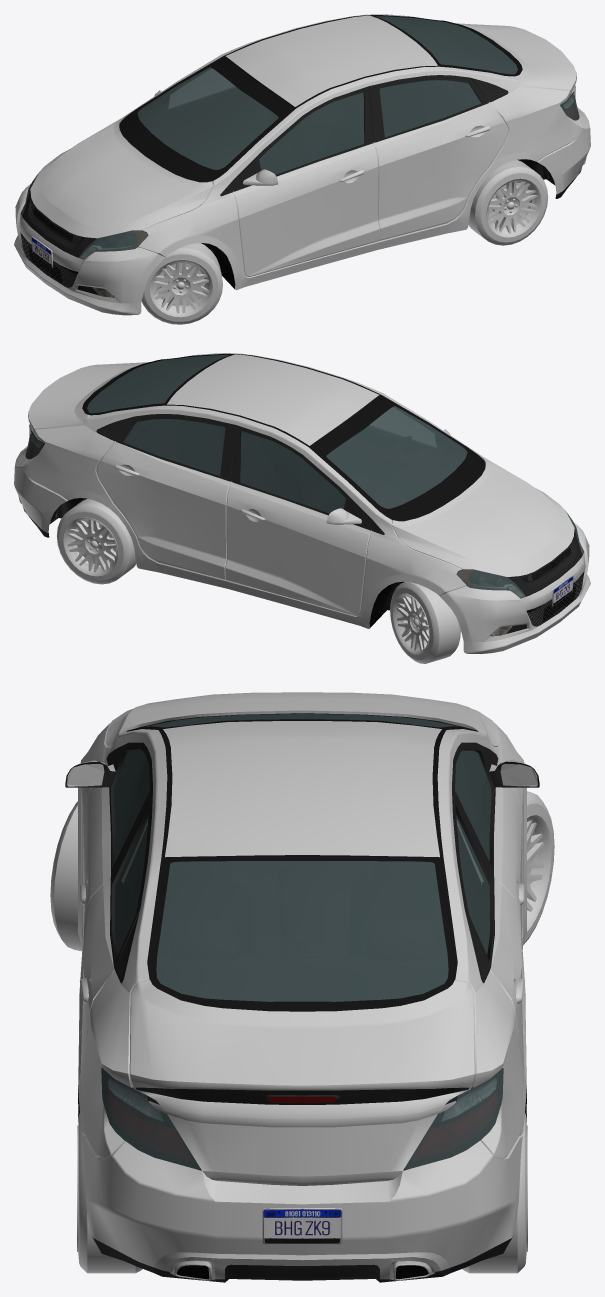
The model's file is kiri10.fbx.
3 renders of one model, top to bottom at view 1: azimuth 30°, elevation 25°; view 2: azimuth 150°, elevation 25°; view 3: azimuth 270°, elevation 25°, orthographic. The views are drawn at different scales.
Visible parts, largest first — view 1: Kiri10_body, Kiri10_interior, Kiri10_Bottom, Kiri10_glass_Body, Kiri10_Windshield, Kiri10_Wheel_RL, Kiri10_Wheel_FL, Kiri10_Glass_Rear, Kiri10_Bumper_Front_Inner; view 2: Kiri10_body, Kiri10_interior, Kiri10_Bottom, Kiri10_glass_Body, Kiri10_Windshield, Kiri10_Wheel_RR, Kiri10_Wheel_FR, Kiri10_Glass_Rear, Kiri10_Bumper_Front_Inner; view 3: Kiri10_body, Kiri10_interior, Kiri10_Glass_Rear, Kiri10_Bottom, Kiri10_glass_Body, Kiri10_Stoplights, Kiri10_Bumper_Rear_Inner, Kiri10_Wheel_FL, Kiri10_Wheel_FR, Kiri10_Numberplate_Rear, Kiri10_Wheel_RL, Kiri10_Wheel_RR (+2 smaller).
Part boxes in pixels (bbox=[...]): Kiri10_body: bbox=[14, 14, 590, 315]; Kiri10_interior: bbox=[138, 16, 522, 258]; Kiri10_Bottom: bbox=[21, 15, 586, 288]; Kiri10_glass_Body: bbox=[168, 69, 481, 174]; Kiri10_Windshield: bbox=[20, 67, 278, 259]; Kiri10_Wheel_RL: bbox=[468, 160, 548, 245]; Kiri10_Wheel_FL: bbox=[141, 243, 222, 324]; Kiri10_Glass_Rear: bbox=[376, 16, 579, 120]; Kiri10_Bumper_Front_Inner: bbox=[20, 190, 114, 297]; Kiri10_body: bbox=[14, 353, 590, 653]; Kiri10_interior: bbox=[82, 355, 466, 597]; Kiri10_Bottom: bbox=[18, 354, 583, 627]; Kiri10_glass_Body: bbox=[123, 408, 436, 513]; Kiri10_Windshield: bbox=[326, 406, 584, 598]; Kiri10_Wheel_RR: bbox=[56, 498, 136, 584]; Kiri10_Wheel_FR: bbox=[390, 582, 460, 663]; Kiri10_Glass_Rear: bbox=[25, 355, 229, 459]; Kiri10_Bumper_Front_Inner: bbox=[490, 529, 584, 636]; Kiri10_body: bbox=[76, 692, 528, 1267]; Kiri10_interior: bbox=[114, 714, 490, 1088]; Kiri10_Glass_Rear: bbox=[101, 861, 503, 1169]; Kiri10_Bottom: bbox=[65, 713, 539, 1280]; Kiri10_glass_Body: bbox=[113, 750, 491, 955]; Kiri10_Stoplights: bbox=[101, 1068, 503, 1169]; Kiri10_Bumper_Rear_Inner: bbox=[92, 1237, 512, 1282]; Kiri10_Wheel_FL: bbox=[50, 801, 82, 951]; Kiri10_Wheel_FR: bbox=[523, 791, 554, 944]; Kiri10_Numberplate_Rear: bbox=[262, 1208, 342, 1244]; Kiri10_Wheel_RL: bbox=[77, 1113, 142, 1273]; Kiri10_Wheel_RR: bbox=[462, 1113, 527, 1273].
Bounding box in the file's own units: 4.36 × 1.47 × 1.81.
